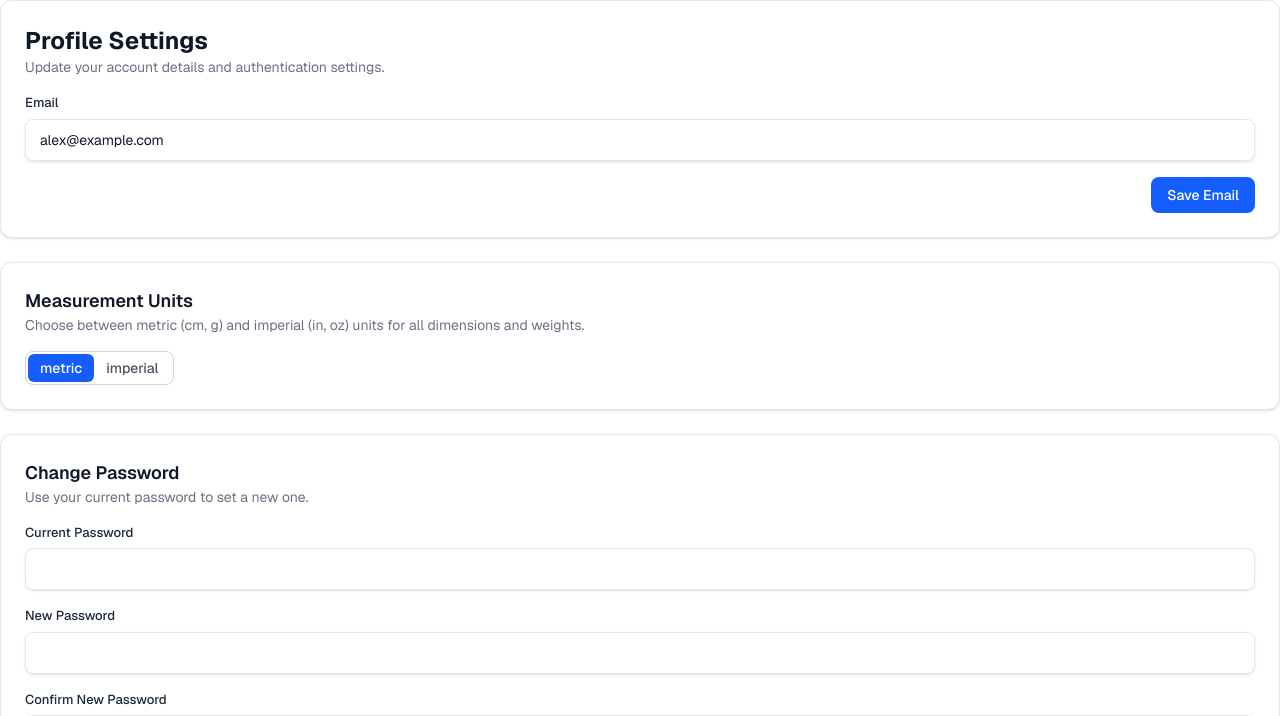
Test: ProfileForm › submits email updates
Step 1. Replace the text in the field labelled "Email" with "next@example.com" → [640, 140], box [25, 118, 1255, 160]
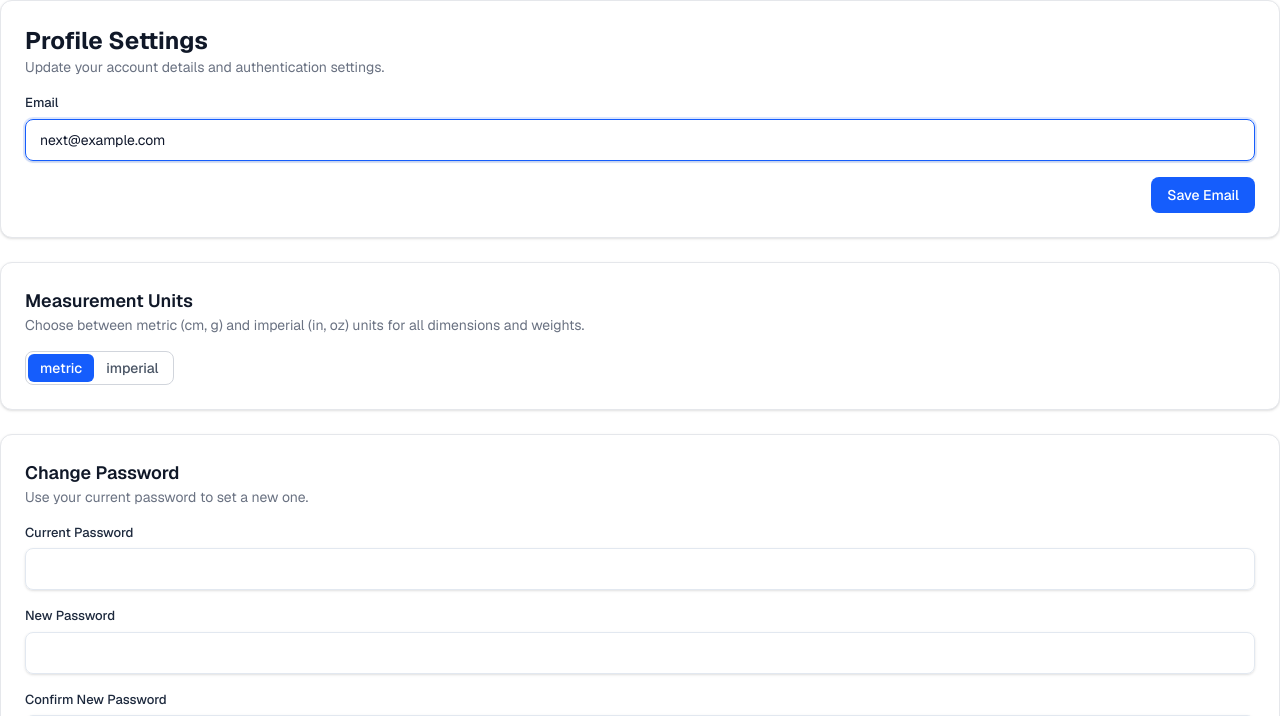
Step 2. Click the button "Save Email" → [1203, 194], box [1151, 176, 1255, 212]
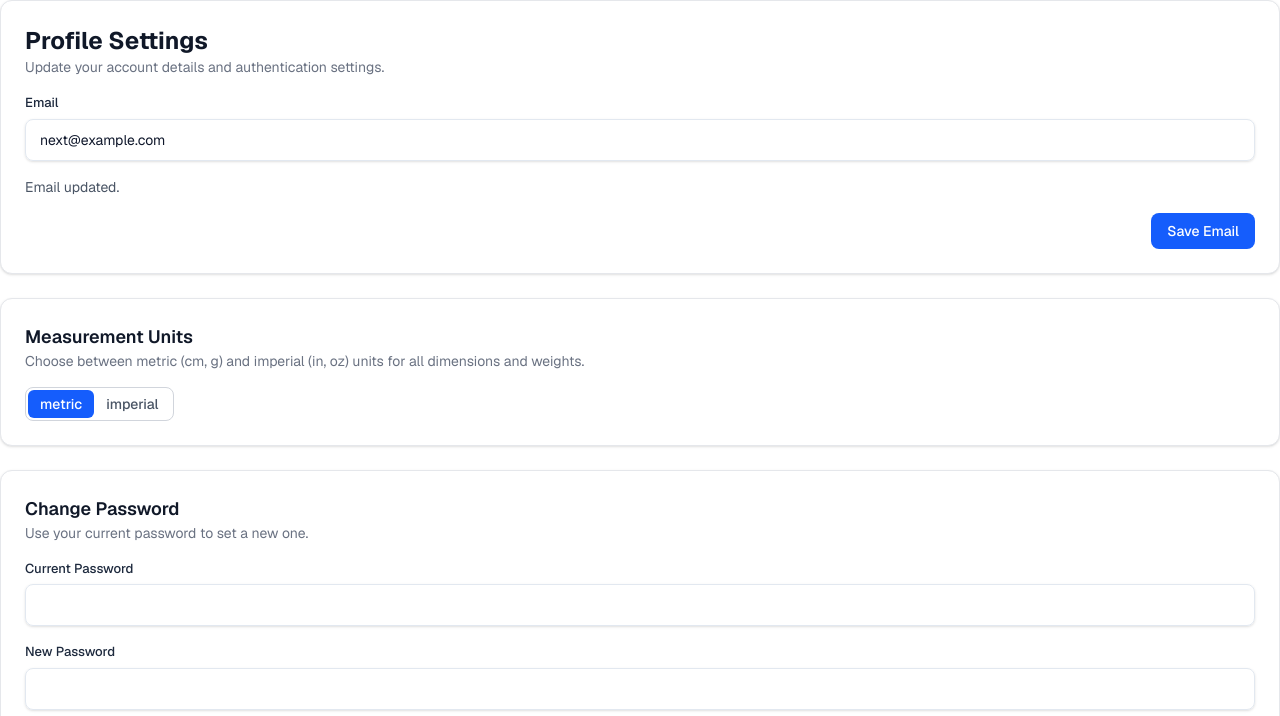
Result: the text "Email updated." is shown at [25, 178, 119, 196]
